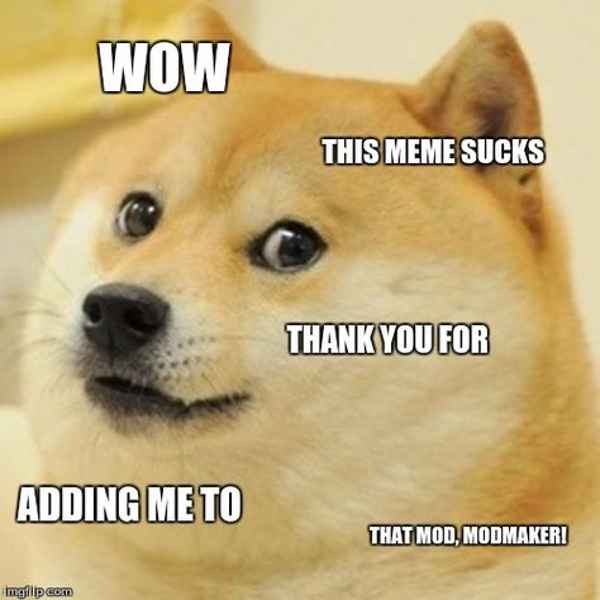doge: (31, 34, 562, 530)
